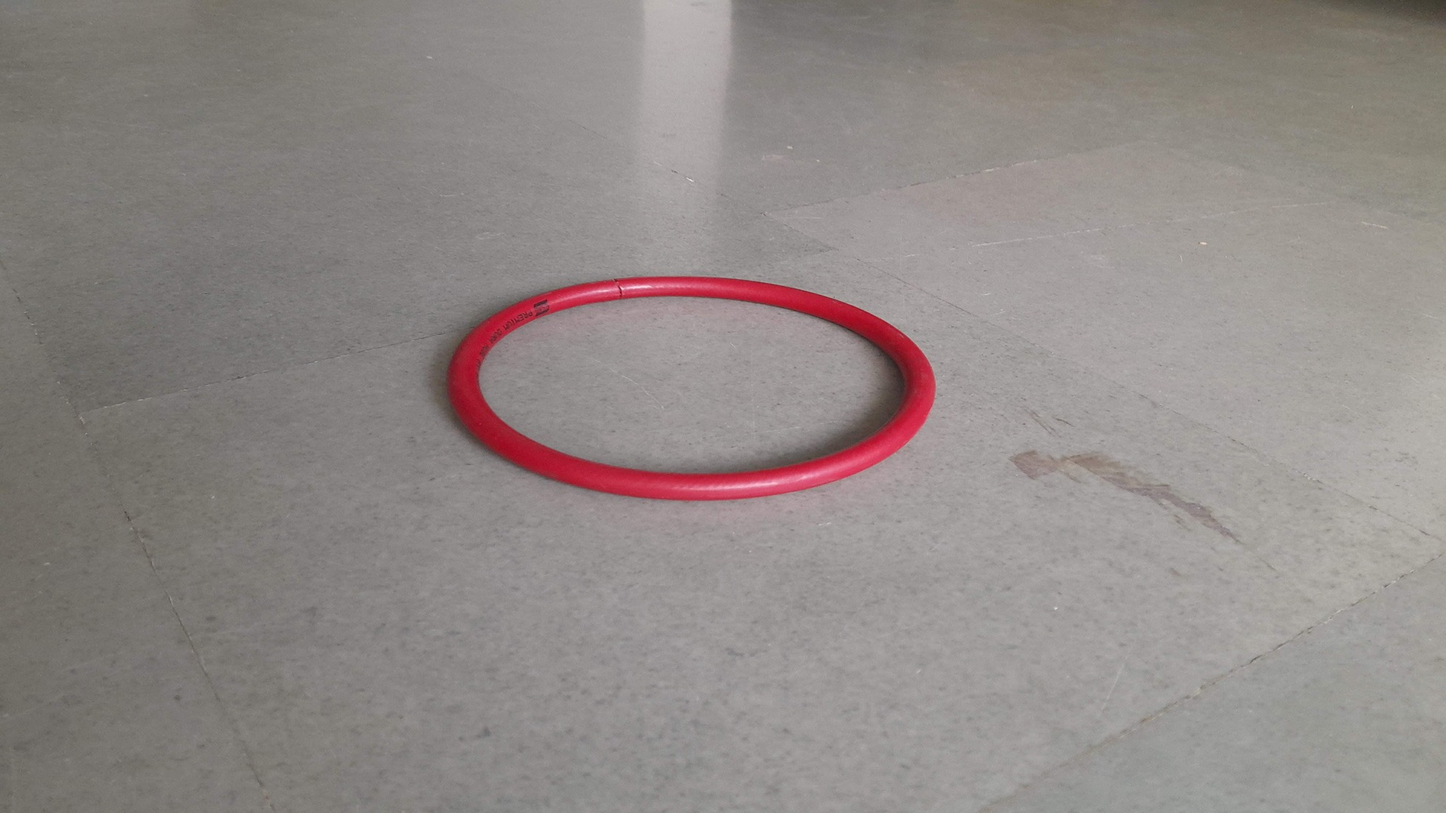Red ring: (445, 274, 939, 497)
